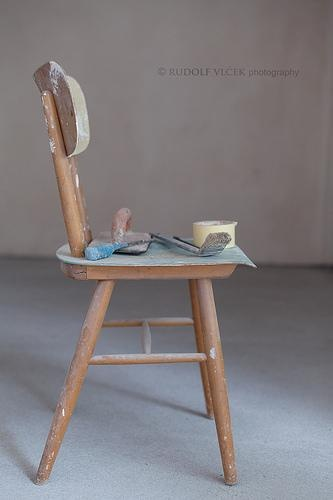obstacle: (35, 62, 254, 484)
